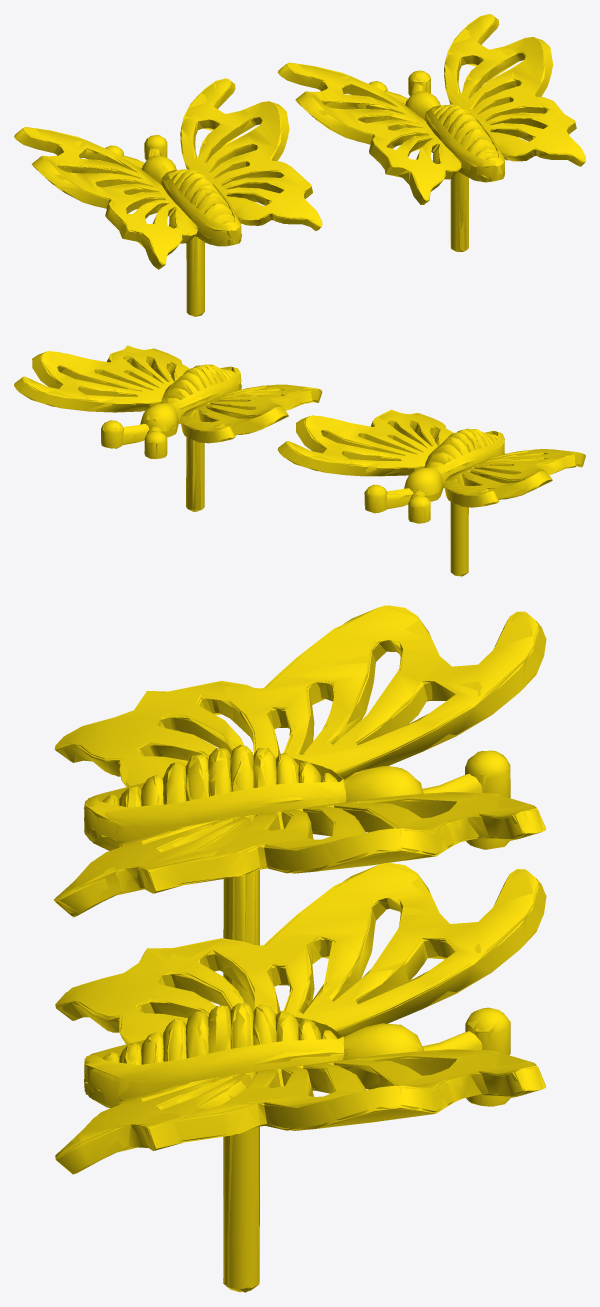
The model's file is GPNGP-SAD0003040.glb.
3 views of the same model, one above another, from view 1: azimuth 30°, elevation 25°; view 2: azimuth 150°, elevation 25°; view 3: azimuth 270°, elevation 25° (orthographic). The views are drawn at different scales.
Parts seen in each view (by area): view 1: highPolyMesh, lowPolyMesh; view 2: highPolyMesh, lowPolyMesh; view 3: highPolyMesh, lowPolyMesh.
Part boxes in pixels (bbox=[...]): highPolyMesh: bbox=[14, 14, 585, 316]; lowPolyMesh: bbox=[14, 14, 585, 316]; highPolyMesh: bbox=[14, 345, 585, 576]; lowPolyMesh: bbox=[15, 345, 585, 576]; highPolyMesh: bbox=[54, 605, 545, 1292]; lowPolyMesh: bbox=[54, 605, 546, 1292].
Bounding box in the file's own units: 0.0258 × 0.00774 × 0.0108.
